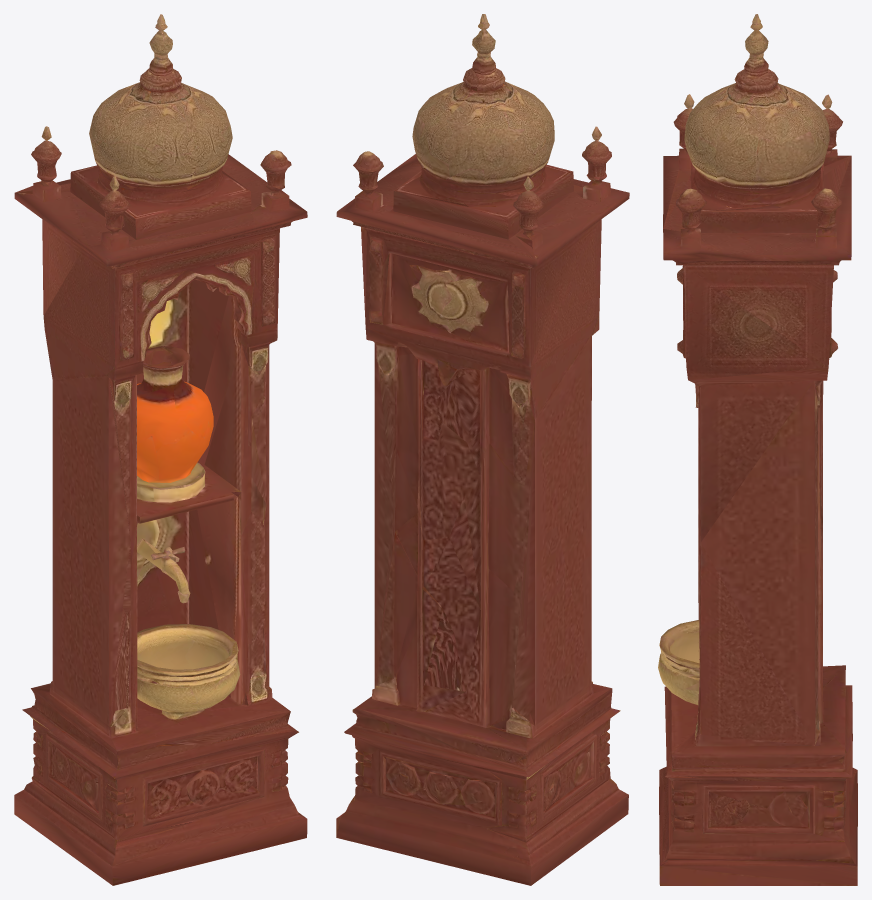
File: la_perk_hammerfall.glb
The picture shows the model from 3 angles, left to right: view 1: azimuth 30°, elevation 25°; view 2: azimuth 150°, elevation 25°; view 3: azimuth 270°, elevation 25°; orthographic projection.
Visible parts, largest first — view 1: la_perk_hammerfall; view 2: la_perk_hammerfall; view 3: la_perk_hammerfall.
Boxes of the visible parts, x1,y1,x2,y2 form: la_perk_hammerfall: (14,14,307,885); la_perk_hammerfall: (336,14,629,885); la_perk_hammerfall: (658,14,857,885).
Bounding box in the file's own units: 0.5422 × 2.1 × 0.4619.
Materials: 1 (1 with a texture image).
